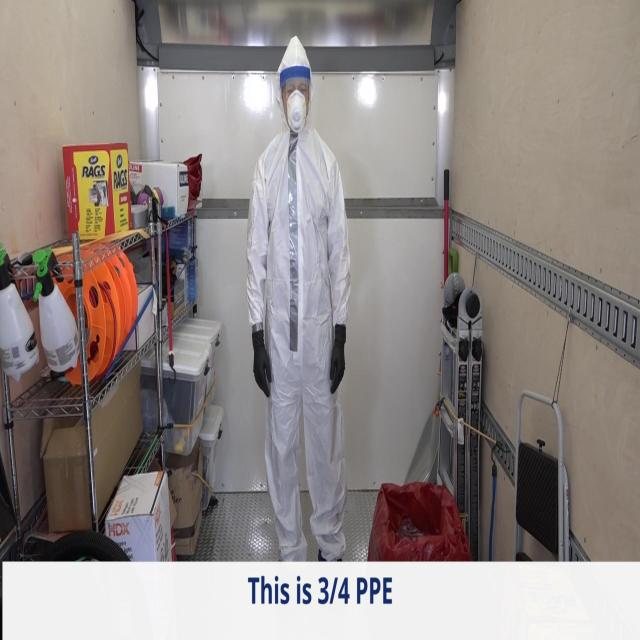Coverall: (245, 33, 353, 559)
Gloves: (250, 331, 273, 401), (329, 324, 348, 395)
Mask: (287, 90, 306, 134)
